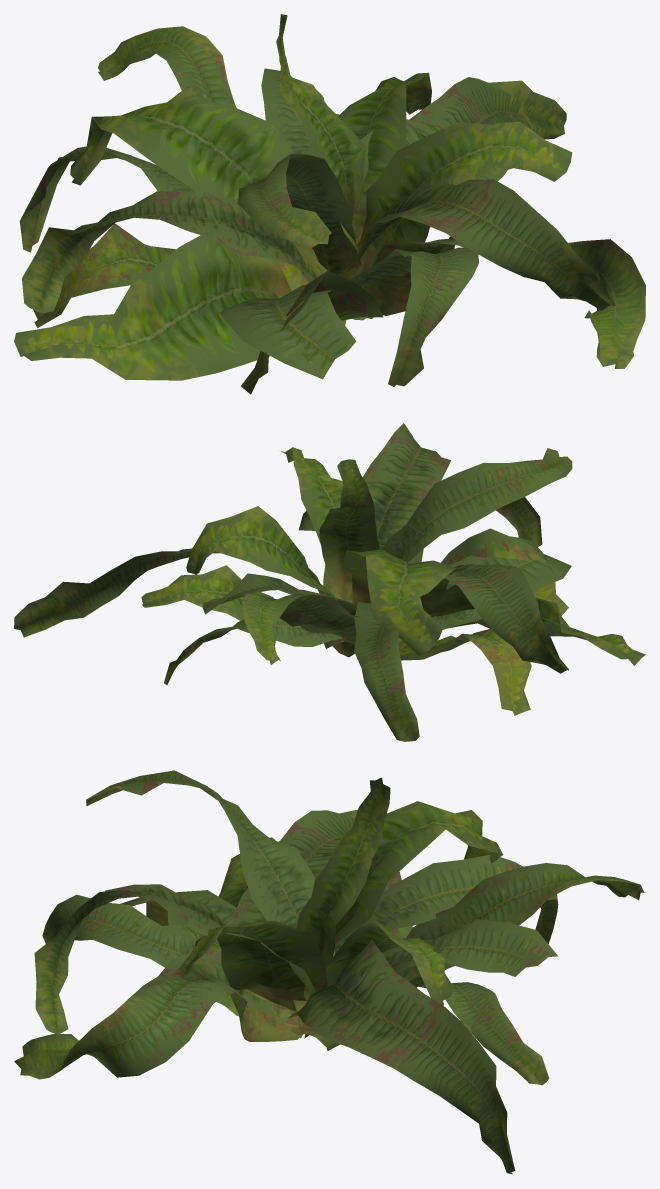
File: Planta_13.glb
The picture shows the model from 3 angles, top to bottom: view 1: azimuth 30°, elevation 25°; view 2: azimuth 150°, elevation 25°; view 3: azimuth 270°, elevation 25°; orthographic projection. The views are drawn at different scales.
Parts seen in each view (by area): view 1: Planta 13; view 2: Planta 13; view 3: Planta 13.
Part boxes in pixels (bbox=[...]): Planta 13: bbox=[14, 14, 645, 394]; Planta 13: bbox=[14, 423, 645, 741]; Planta 13: bbox=[14, 770, 645, 1174].
Bounding box in the file's own units: 1.57 × 0.6282 × 1.38.
Materials: 1 (1 with a texture image).
